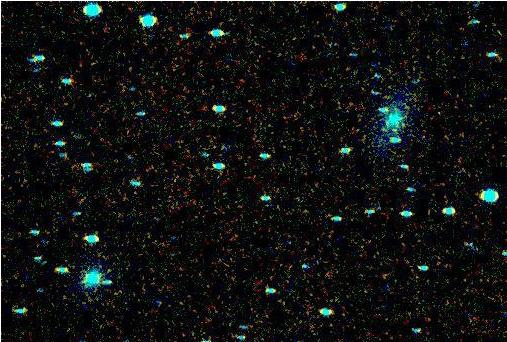star: (378, 113, 408, 143)
